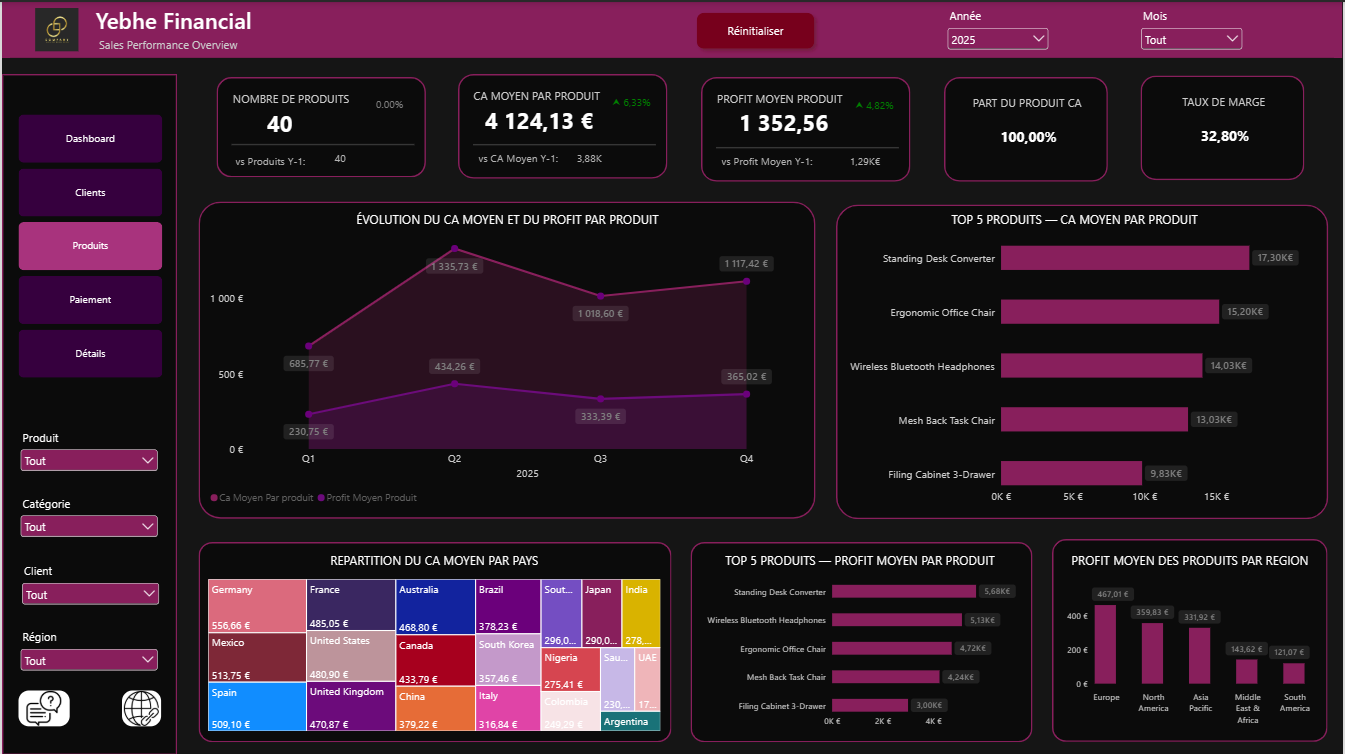

Layout of this report page (visuals, bound fields, positions):
{"tool":"powerbi","page":{"name":"Produits","canvas":[1920,1080],"ordinal":2},"visuals":[{"type":"shape","title":"top bar","box":[0,0,1919.7,80],"z":0},{"type":"shape","box":[280.4,284.8,883.7,454.3],"z":0,"group":"g9"},{"type":"shape","title":"sidebar","box":[0,103.8,250.9,975.5],"z":1000},{"type":"slicer","title":"slicer month_name","fields":{"Values":["dim_date.Month_name"]},"box":[1626.2,9.5,154.8,64.3],"z":2000},{"type":"shape","box":[653.8,103.3,300,150],"z":2000,"group":"g1"},{"type":"shape","box":[1630.4,104.3,234.8,150],"z":2000,"group":"g2"},{"type":"shape","box":[306.5,106.5,300,143.7],"z":2000,"group":"g3"},{"type":"shape","box":[1001.1,106.5,300,150],"z":2000,"group":"g4"},{"type":"shape","box":[1348.4,106.5,234.8,150],"z":2000,"group":"g5"},{"type":"textbox","title":"title dash","box":[124,4,251.5,47],"z":3000},{"type":"image","title":"logo","box":[40.9,7.6,75.8,62.1],"z":4000},{"type":"slicer","title":"year Slicer","fields":{"Values":["dim_date.Year"]},"box":[1350,9.5,154.5,62.1],"z":5000},{"type":"actionButton","box":[985.7,7.1,186.4,69.7],"z":6000},{"type":"slicer","title":"year Slicer","fields":{"Values":["dim_customer.Customer_Name"]},"box":[22.7,802.7,206.1,62.1],"z":7000},{"type":"group","id":"g1","title":"Group 1","box":[653.8,103.3,300,150.2],"z":8000,"group":"g7"},{"type":"group","id":"g2","title":"Group 1","box":[1630.4,104.3,234.8,150],"z":8000,"group":"g11"},{"type":"group","id":"g3","title":"Group 1","box":[306.5,106.5,300,146.3],"z":8000,"group":"g6"},{"type":"group","id":"g4","title":"Group 1","box":[1001.1,106.5,300,150],"z":8000,"group":"g10"},{"type":"group","id":"g5","title":"Group 1","box":[1348.4,106.5,234.8,150],"z":8000,"group":"g8"},{"type":"shape","box":[985.7,773.8,489.8,286.9],"z":8000,"group":"g12"},{"type":"slicer","title":"year Slicer","fields":{"Values":["dim_country.Region"]},"box":[22,898,206.1,62.1],"z":8000},{"type":"slicer","title":"year Slicer","fields":{"Values":["dim_product.Product_Category"]},"box":[22,707.3,206.1,62.1],"z":9000},{"type":"card","fields":{"Values":["_Mesures.Ca Moyen par Produit LY Affichage"]},"box":[775.8,198.3,131,55.2],"z":10000,"group":"g1"},{"type":"card","fields":{"Values":["_Mesures.Nb Products LY Affichage"]},"box":[419,199.9,131,52.8],"z":10000,"group":"g3"},{"type":"card","fields":{"Values":["_Mesures.Profit Moyen Produit LY Affichage"]},"box":[1170.7,207,130.4,43.5],"z":10000,"group":"g4"},{"type":"slicer","title":"year Slicer","fields":{"Values":["dim_product.Product_Name"]},"box":[22,612,206.1,62.1],"z":10000},{"type":"card","fields":{"Values":["_Mesures.Ca Moyen Par produit"]},"box":[660.7,135.3,219.6,71.7],"z":11000,"group":"g1"},{"type":"card","fields":{"Values":["_Mesures.Nb Products"]},"box":[309.9,147.6,172.5,54.5],"z":11000,"group":"g3"},{"type":"card","fields":{"Values":["_Mesures.Taux de Marge Affichage"]},"box":[1661,155.3,182,73.9],"z":11000,"group":"g2"},{"type":"card","fields":{"Values":["_Mesures.Part du Produit CA Affichage"]},"box":[1379,157.5,182,73.9],"z":11000,"group":"g5"},{"type":"pageNavigator","box":[22.7,160.6,206.1,378.8],"z":11000},{"type":"shape","box":[280.4,773.2,677.7,286.9],"z":11000,"group":"g12"},{"type":"textbox","box":[130,50,214,30],"z":12000},{"type":"textbox","box":[672.7,198.3,152.3,46.2],"z":12000,"group":"g1"},{"type":"textbox","box":[322.8,200,122.7,42.1],"z":12000,"group":"g3"},{"type":"textbox","box":[1020,201.5,152.3,46.2],"z":12000,"group":"g4"},{"type":"shape","box":[1502.6,769.6,394.7,290.6],"z":12000,"group":"g12"},{"type":"group","id":"g6","title":"Group 2","box":[306.5,106.5,300,147.8],"z":15000},{"type":"clusteredBarChart","title":"TOP 5 PRODUITS — PROFIT MOYEN PAR PRODUIT","fields":{"Category":["dim_product.Product_Name"],"Y":["_Mesures.Profit Moyen Produit"]},"box":[983.5,773.8,492.2,285.1],"z":15000,"group":"g12"},{"type":"group","id":"g7","title":"Group 2","box":[653.8,103.3,300,150.2],"z":16000},{"type":"shape","box":[328.2,199.4,262.1,8.7],"z":16000,"group":"g6"},{"type":"shape","box":[675.5,200.3,262.1,9.1],"z":16000,"group":"g7"},{"type":"shape","box":[1022.8,203.5,262.1,9.1],"z":16000,"group":"g10"},{"type":"group","id":"g8","title":"Group 2","box":[1348.4,106.5,234.8,150],"z":17000},{"type":"textbox","box":[669.6,122.3,195.7,41.3],"z":17000,"group":"g1"},{"type":"textbox","box":[1016.9,125.5,195.7,41.3],"z":17000,"group":"g4"},{"type":"textbox","box":[326.7,126.3,175,37.9],"z":17000,"group":"g3"},{"type":"textbox","box":[1663.2,129.3,173.9,37],"z":17000,"group":"g2"},{"type":"textbox","box":[1381.2,131.5,173.9,37],"z":17000,"group":"g5"},{"type":"group","id":"g9","title":"Group 4","box":[280.4,284.8,1617.4,454.3],"z":18000},{"type":"group","id":"g10","title":"Group 2","box":[1001.1,106.5,300,150],"z":19000},{"type":"card","fields":{"Values":["_Mesures.Taux CA Moyen Produit Affichage"]},"box":[858.5,125.7,87.9,40.9],"z":19000,"group":"g1"},{"type":"card","fields":{"Values":["_Mesures.Taux Product Affichage"]},"box":[511.2,127.9,87.9,39.2],"z":19000,"group":"g3"},{"type":"card","fields":{"Values":["_Mesures.Taux Profit Moyen Produit Affichage"]},"box":[1205.8,128.9,87.9,40.9],"z":19000,"group":"g4"},{"type":"group","id":"g11","title":"Group 2","box":[1630.4,104.3,234.8,150],"z":20000},{"type":"group","id":"g12","title":"Group 3","box":[280.4,769.6,1617.4,291.3],"z":21000},{"type":"clusteredColumnChart","title":"PROFIT MOYEN DES PRODUITS PAR REGION","fields":{"Category":["dim_country.Region"],"Y":["_Mesures.Profit Moyen Produit"]},"box":[1504.5,773.8,393,280.9],"z":27000,"group":"g12"},{"type":"lineChart","title":"ÉVOLUTION DU CA MOYEN ET DU PROFIT PAR PRODUIT ","fields":{"Category":["dim_date.Year Hiérarchie.Year","dim_date.Year Hiérarchie.Quarter_name","dim_date.Year Hiérarchie.Month_name"],"Y":["_Mesures.Ca Moyen Par produit","_Mesures.Profit Moyen Produit"]},"box":[282.6,284.8,882.6,454.3],"z":30000},{"type":"shape","box":[1192.7,288.3,705.1,450.8],"z":30000,"group":"g9"},{"type":"treemap","title":"REPARTITION DU CA MOYEN PAR PAYS","fields":{"Group":["dim_country.Country"],"Values":["_Mesures.Ca Moyen Par produit"]},"box":[280.4,773.2,677.7,286.9],"z":30000,"group":"g12"},{"type":"card","fields":{"Values":["_Mesures.Profit Moyen Produit Affichage"]},"box":[1010.9,137,219.6,71.7],"z":30500},{"type":"image","box":[23.6,986.2,73.1,51.6],"z":30501},{"type":"image","box":[171.9,986.2,55.9,51.6],"z":30502},{"type":"clusteredBarChart","title":"TOP 5 PRODUITS — CA MOYEN PAR PRODUIT","fields":{"Category":["dim_product.Product_Name"],"Y":["_Mesures.Ca Moyen Par produit"]},"box":[1185.6,284.8,702.7,454.3],"z":31000,"group":"g9"}]}

Visuals, with their boxes in screenshot pixels (x1, y1, x2, y2), scaled from the page's 1920x1080 canvas onto the 1345x754 screenshot:
"top bar" shape: (0, 0, 1344, 56)
shape: (196, 199, 815, 516)
"sidebar" shape: (0, 72, 176, 753)
"slicer month_name" slicer: (1139, 7, 1248, 52)
shape: (458, 72, 668, 177)
shape: (1142, 73, 1307, 178)
shape: (215, 74, 425, 175)
shape: (701, 74, 911, 179)
shape: (945, 74, 1109, 179)
"title dash" textbox: (87, 3, 263, 36)
"logo" image: (29, 5, 82, 49)
"year Slicer" slicer: (946, 7, 1054, 50)
actionButton: (691, 5, 821, 54)
"year Slicer" slicer: (16, 560, 160, 604)
"Group 1" group: (458, 72, 668, 177)
"Group 1" group: (1142, 73, 1307, 178)
"Group 1" group: (215, 74, 425, 176)
"Group 1" group: (701, 74, 911, 179)
"Group 1" group: (945, 74, 1109, 179)
shape: (691, 540, 1034, 741)
"year Slicer" slicer: (15, 627, 160, 670)
"year Slicer" slicer: (15, 494, 160, 537)
card - _Mesures.Ca Moyen par Produit LY Affichage: (543, 138, 635, 177)
card - _Mesures.Nb Products LY Affichage: (294, 140, 385, 176)
card - _Mesures.Profit Moyen Produit LY Affichage: (820, 145, 911, 175)
"year Slicer" slicer: (15, 427, 160, 471)
card - _Mesures.Ca Moyen Par produit: (463, 94, 617, 145)
card - _Mesures.Nb Products: (217, 103, 338, 141)
card - _Mesures.Taux de Marge Affichage: (1164, 108, 1291, 160)
card - _Mesures.Part du Produit CA Affichage: (966, 110, 1094, 162)
pageNavigator: (16, 112, 160, 377)
shape: (196, 540, 671, 740)
textbox: (91, 35, 241, 56)
textbox: (471, 138, 578, 171)
textbox: (226, 140, 312, 169)
textbox: (715, 141, 821, 173)
shape: (1053, 537, 1329, 740)
"Group 2" group: (215, 74, 425, 178)
"TOP 5 PRODUITS — PROFIT MOYEN PAR PRODUIT" clusteredBarChart: (689, 540, 1034, 739)
"Group 2" group: (458, 72, 668, 177)
shape: (230, 139, 414, 145)
shape: (473, 140, 657, 146)
shape: (716, 142, 900, 148)
"Group 2" group: (945, 74, 1109, 179)
textbox: (469, 85, 606, 114)
textbox: (712, 88, 849, 116)
textbox: (229, 88, 351, 115)
textbox: (1165, 90, 1287, 116)
textbox: (968, 92, 1089, 118)
"Group 4" group: (196, 199, 1329, 516)
"Group 2" group: (701, 74, 911, 179)
card - _Mesures.Taux CA Moyen Produit Affichage: (601, 88, 663, 116)
card - _Mesures.Taux Product Affichage: (358, 89, 420, 117)
card - _Mesures.Taux Profit Moyen Produit Affichage: (845, 90, 906, 119)
"Group 2" group: (1142, 73, 1307, 178)
"Group 3" group: (196, 537, 1329, 741)
"PROFIT MOYEN DES PRODUITS PAR REGION" clusteredColumnChart: (1054, 540, 1329, 736)
"ÉVOLUTION DU CA MOYEN ET DU PROFIT PAR PRODUIT " lineChart: (198, 199, 816, 516)
shape: (836, 201, 1329, 516)
"REPARTITION DU CA MOYEN PAR PAYS" treemap: (196, 540, 671, 740)
card - _Mesures.Profit Moyen Produit Affichage: (708, 96, 862, 146)
image: (17, 689, 68, 725)
image: (120, 689, 160, 725)
"TOP 5 PRODUITS — CA MOYEN PAR PRODUIT" clusteredBarChart: (831, 199, 1323, 516)
